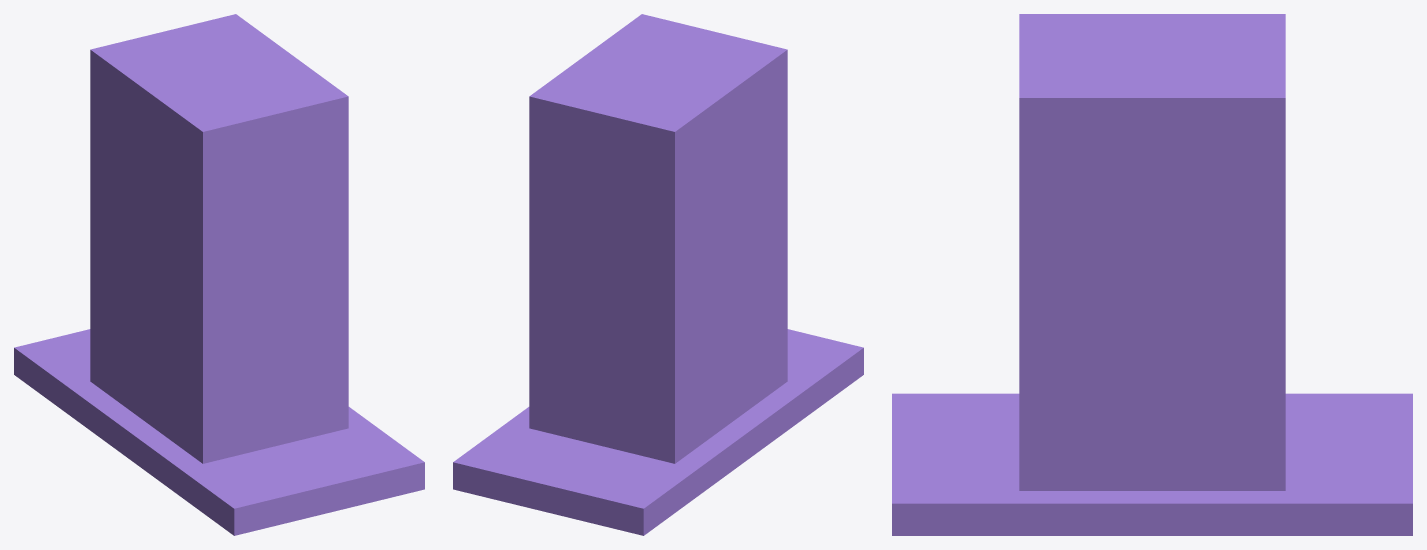
File: statue.FBX
3 views of the same model, side by side, from view 1: azimuth 30°, elevation 25°; view 2: azimuth 150°, elevation 25°; view 3: azimuth 270°, elevation 25° (orthographic). The views are drawn at different scales.
Parts seen in each view (by area): view 1: statue; view 2: statue; view 3: statue.
Boxes of the visible parts, bbox=[...] form: statue: bbox=[14, 14, 424, 535]; statue: bbox=[453, 14, 863, 535]; statue: bbox=[892, 14, 1412, 535].
Size of what is drawn, in the model's own units: 250 by 500 by 450.
